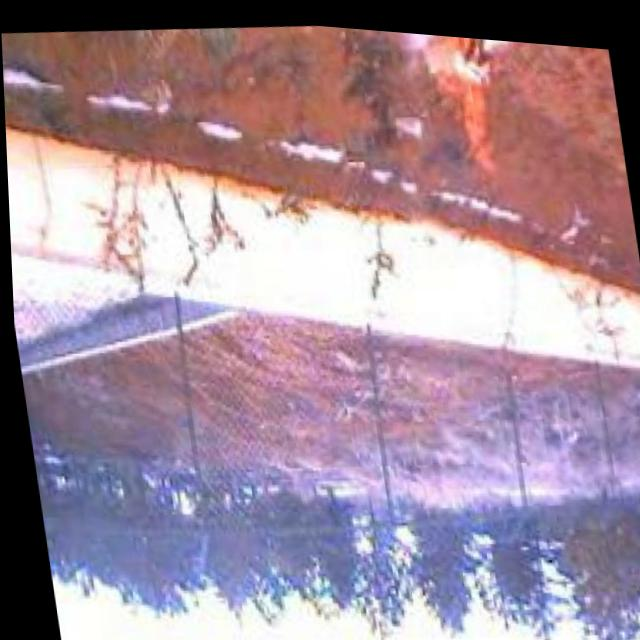Fire: (416, 27, 511, 177)
